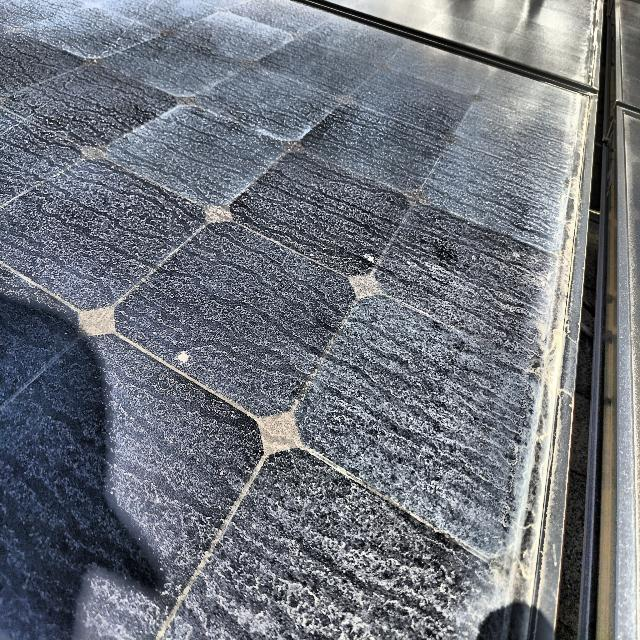Surface Contaminant: (0, 3, 601, 639), (333, 0, 598, 83), (618, 0, 639, 402)
